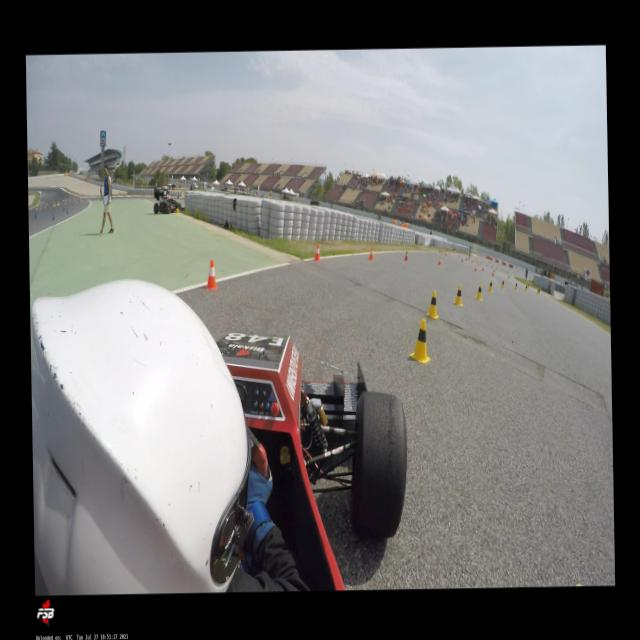orange_cone: (203, 259, 219, 290), (312, 244, 320, 261), (368, 247, 373, 260), (403, 250, 408, 262), (437, 256, 441, 266), (473, 265, 476, 272), (491, 270, 494, 276), (460, 256, 462, 262), (481, 265, 483, 271), (444, 251, 446, 256), (75, 199, 77, 203)
unknown_cone: (51, 212, 54, 220), (34, 211, 36, 218), (66, 207, 68, 213)
yellow_cone: (407, 318, 431, 364), (424, 290, 438, 320), (452, 284, 462, 306), (474, 282, 482, 300), (488, 279, 492, 292), (500, 278, 504, 290), (513, 281, 517, 290), (536, 286, 540, 294), (524, 283, 527, 291), (507, 274, 510, 280), (538, 287, 540, 294), (526, 283, 528, 288)
